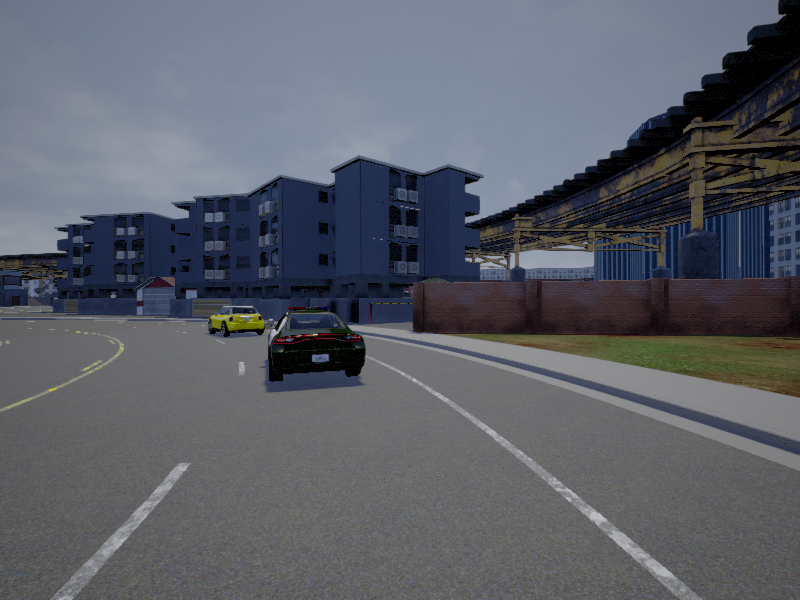Benign: (267, 307, 365, 385), (208, 304, 264, 339)
